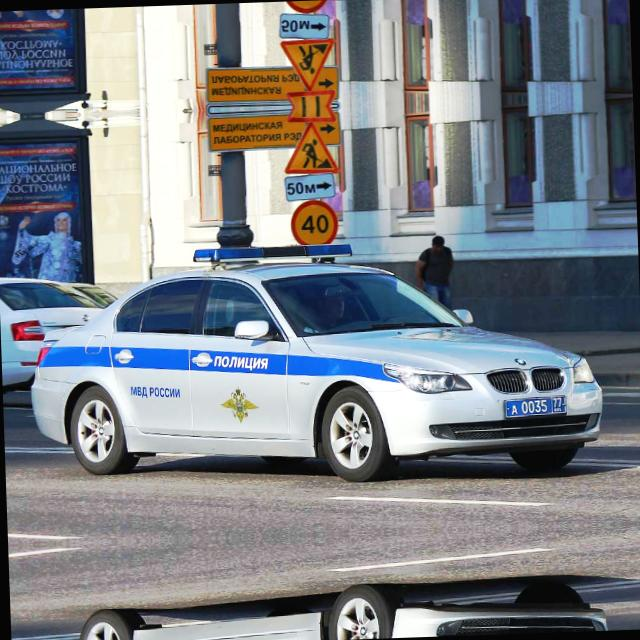police: (500, 392, 570, 422)
